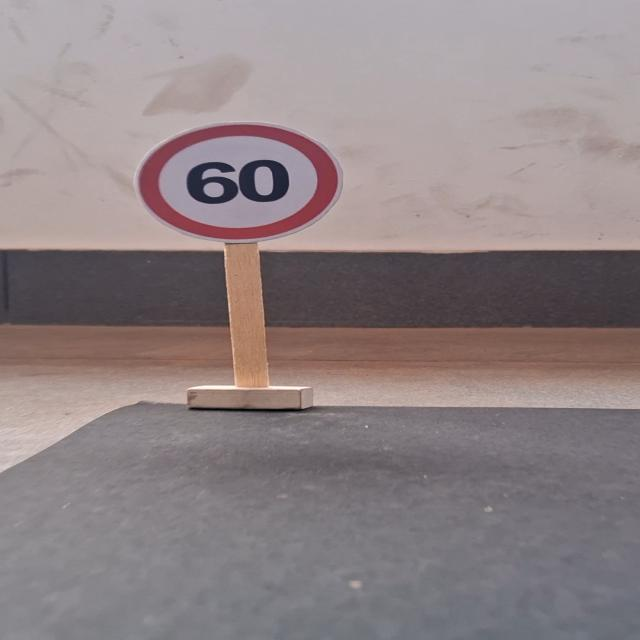Speed60: (133, 106, 335, 249)
